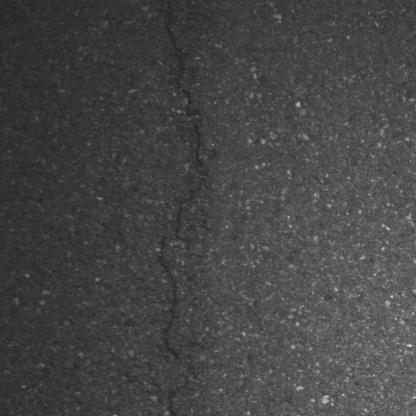Cracks: (163, 22, 204, 121), (156, 235, 186, 365), (191, 122, 207, 168), (163, 391, 182, 416)
